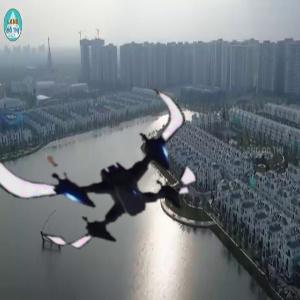drone: (18, 76, 214, 272)
